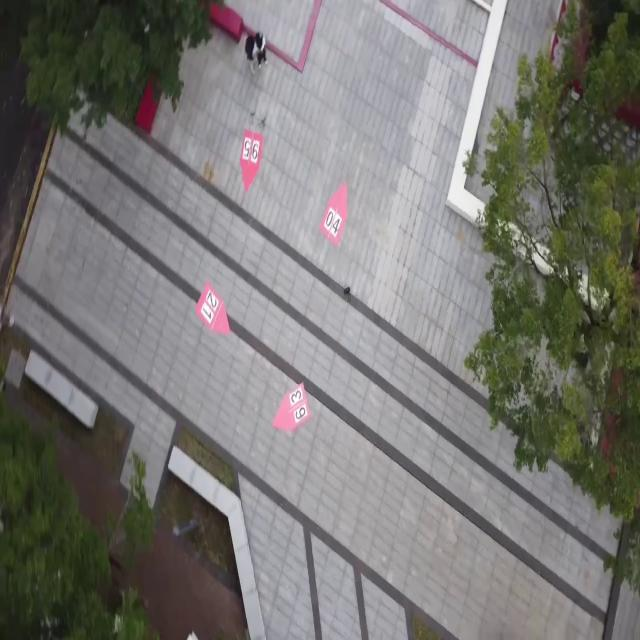-sign-: (272, 382, 311, 435), (195, 280, 231, 335), (321, 180, 348, 248), (239, 126, 262, 192)
